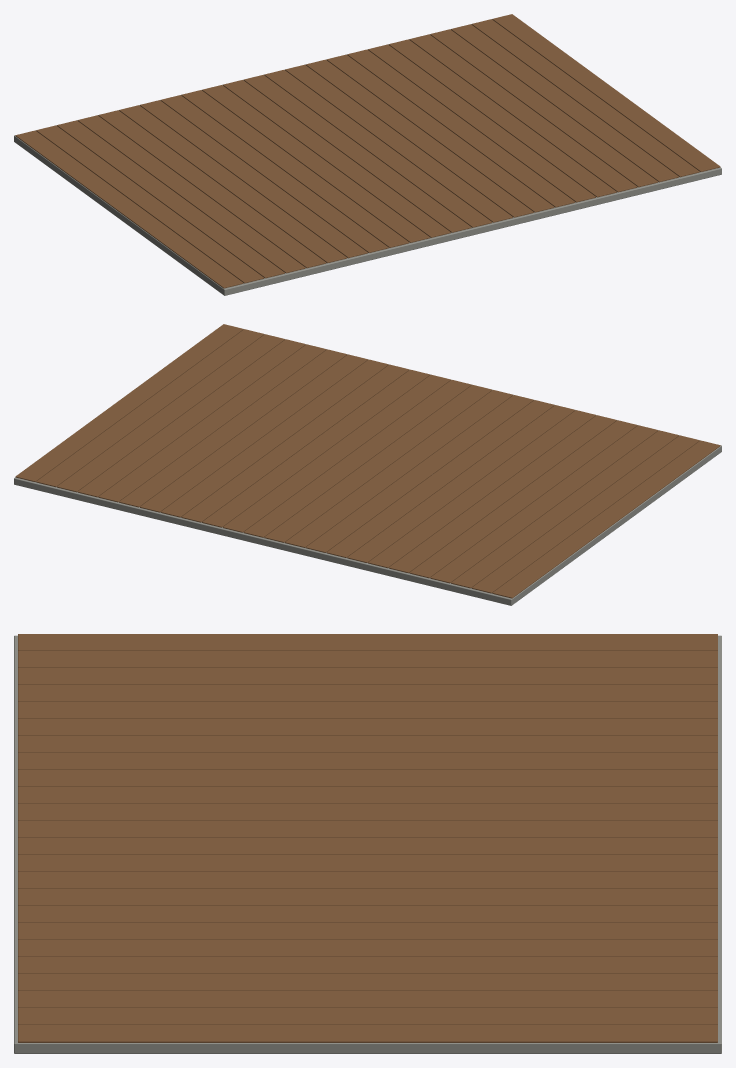
File: fantasy-cartographers-map-printing-guild-cartography-h-be1ba476__32276.glb
The picture shows the model from 3 angles, top to bottom: view 1: azimuth 30°, elevation 25°; view 2: azimuth 150°, elevation 25°; view 3: azimuth 270°, elevation 25°; orthographic projection. The views are drawn at different scales.
Visible parts, largest first — view 1: cartography-hall-floor-base; view 2: cartography-hall-floor-base; view 3: cartography-hall-floor-base.
Boxes of the visible parts, box(x1,y1,x2,y2) form: cartography-hall-floor-base: box(14, 14, 721, 295); cartography-hall-floor-base: box(14, 324, 721, 605); cartography-hall-floor-base: box(14, 634, 721, 1053).
Size of the model in its own units: 12 by 0.1746 by 8.8.
